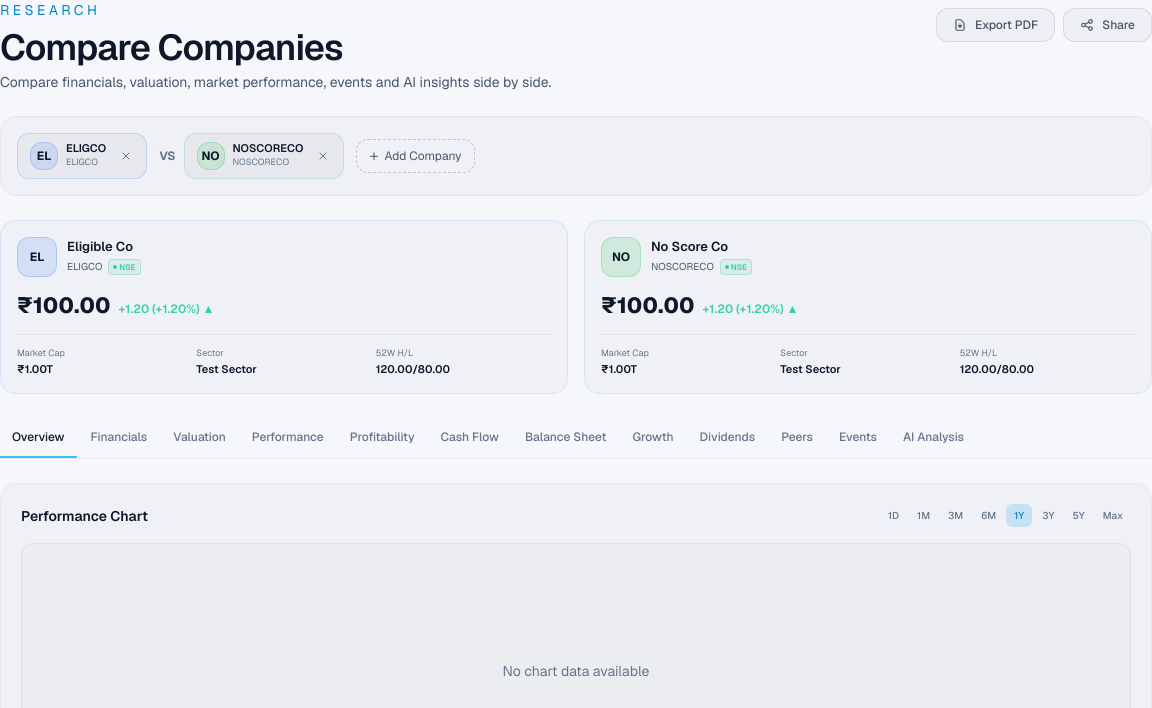
Test: CompareContent — one-score migration (2026-09-26 sweep) › shows the honest 'Unavailable' state for a company with no MarketRipple Score methodology or snapshot
The width and height of the screenshot is (1152, 708).
Check: the text "Eligible Co" is shown, box [67,237,140,256]
What coordinates should you click on to do the following:
click the button "AI Analysis"
I would click on:
 (934, 438)
Its box is [891,418,976,458].
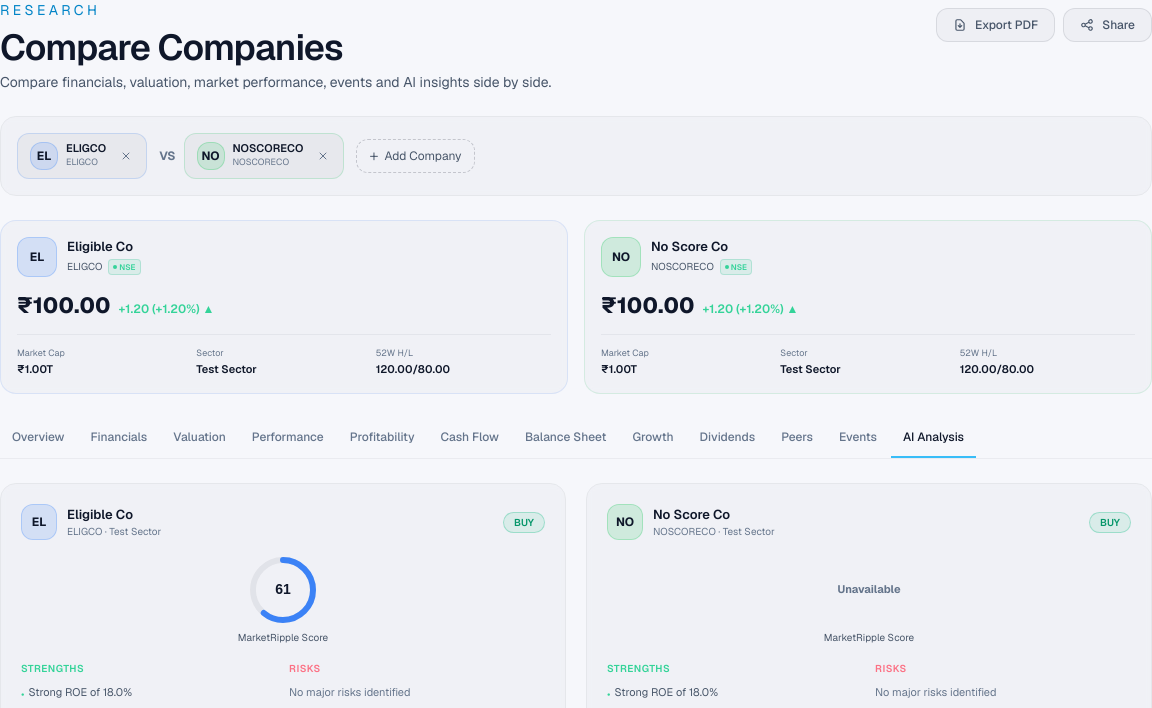
Check: the text "61" is shown, box [275,581,291,597]
Check: the text "Unavailable" is shown, box [837,583,900,597]
